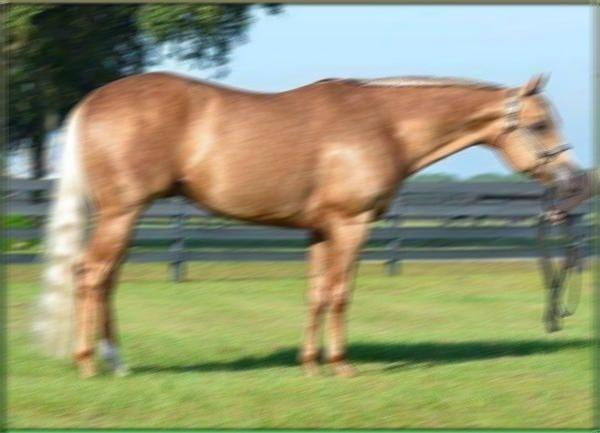horse: (31, 69, 584, 380)
